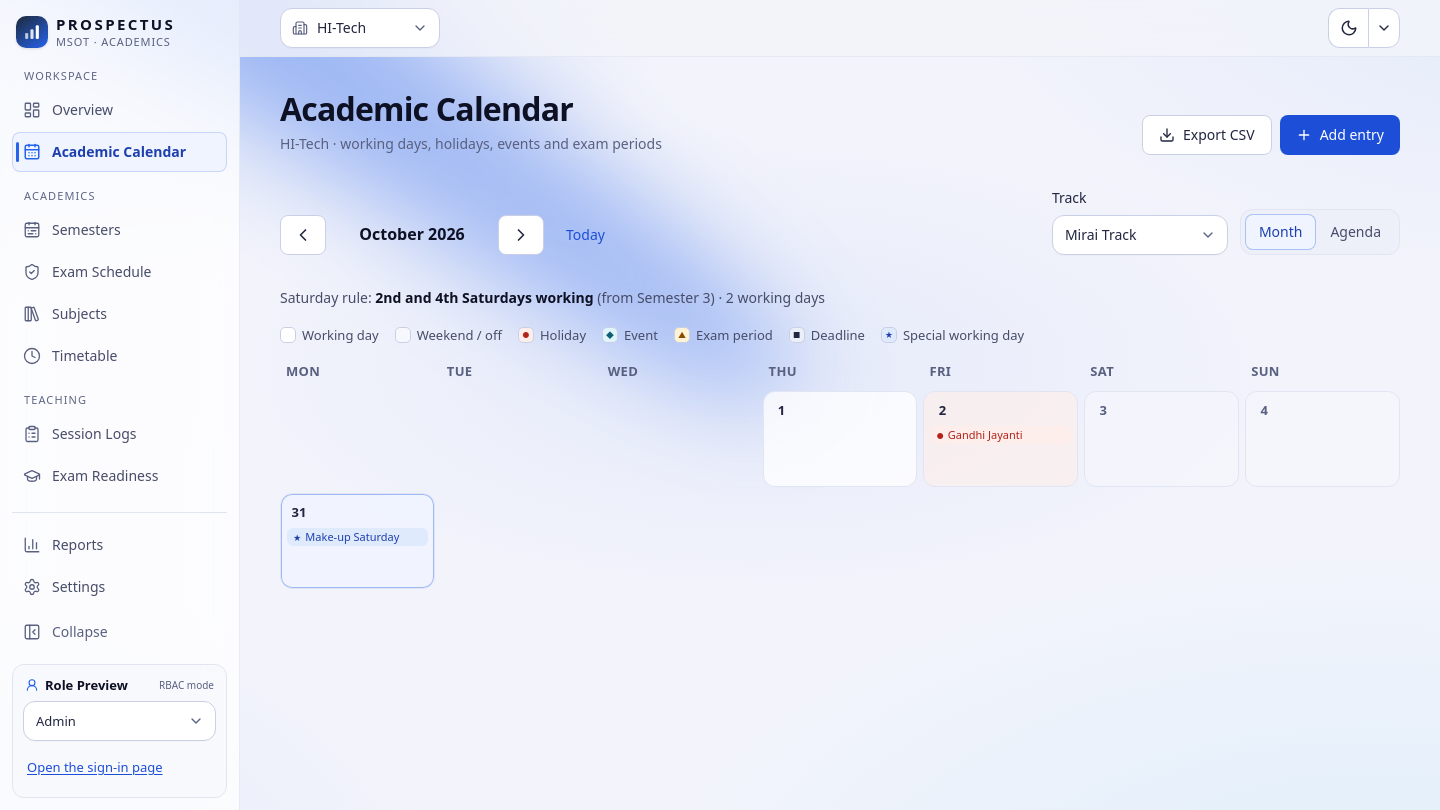
Test: Academic Calendar page › navigates months by requesting the next month, and switches to the agenda view
Expected: the table is shown, [280,361,1400,589]
Click the button named "Next month".
click(521, 235)  # box [498,215,544,255]
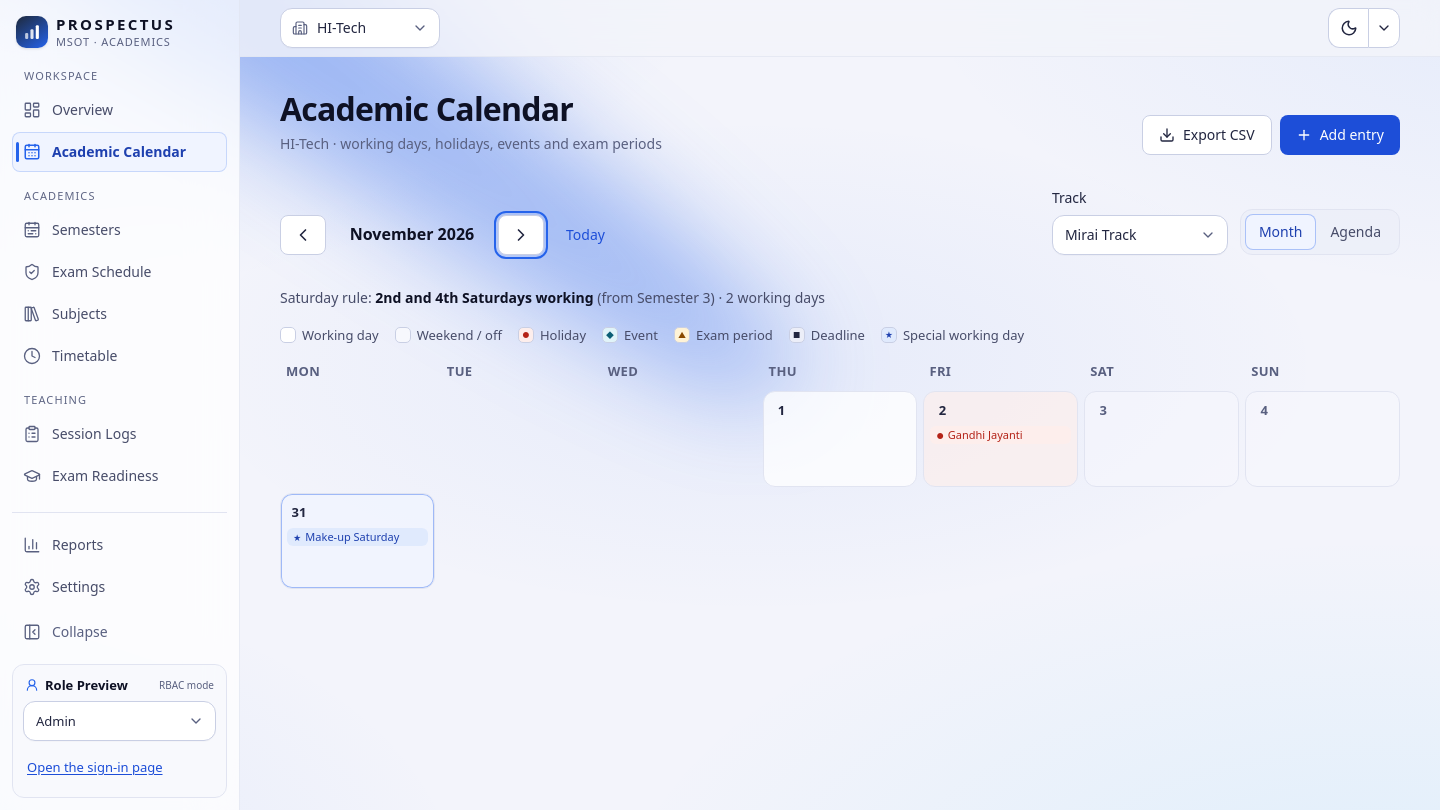
Click the tab "Agenda".
click(1356, 232)  # box [1316,214,1395,250]
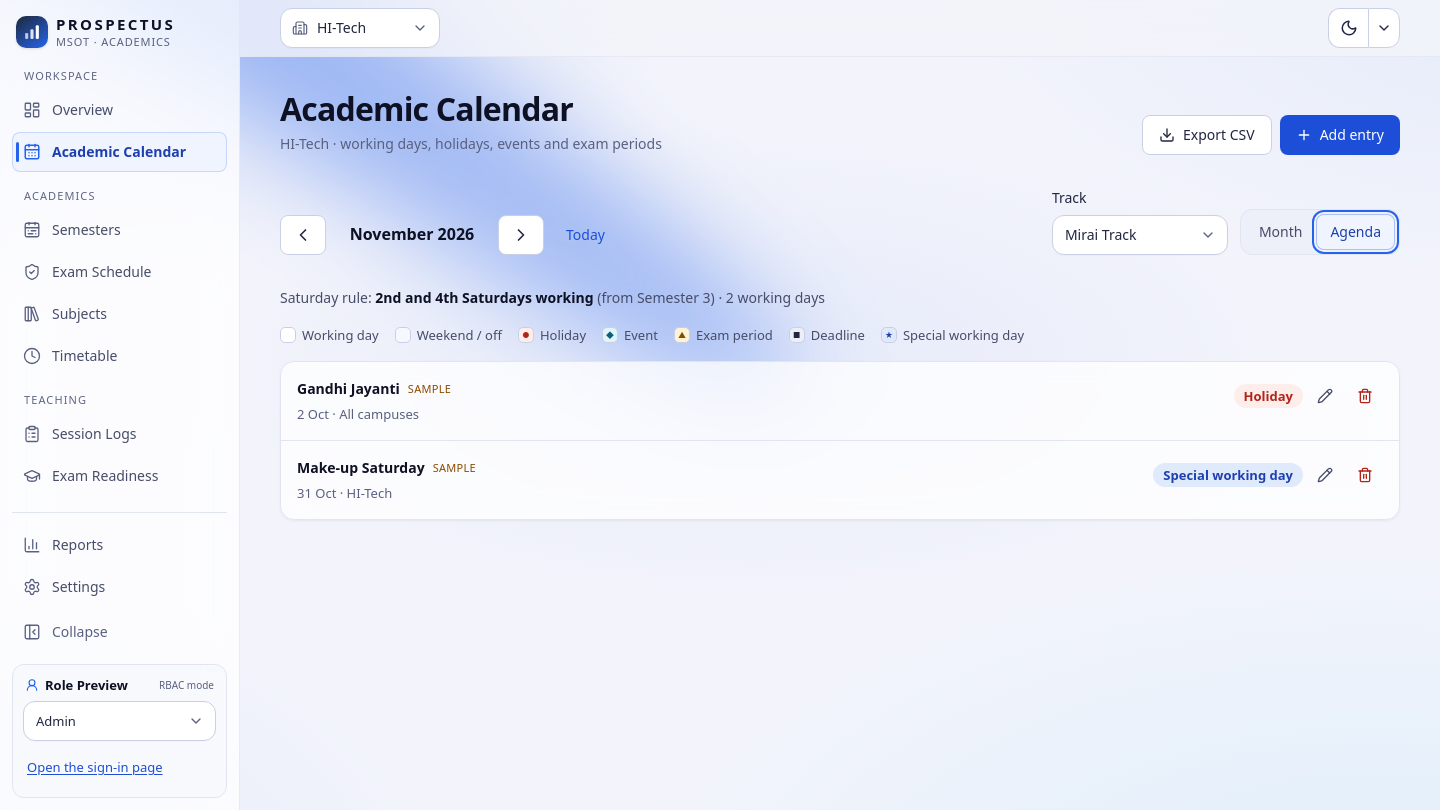
Expected: the text "Make-up Saturday" is shown, [297,458,425,477]
